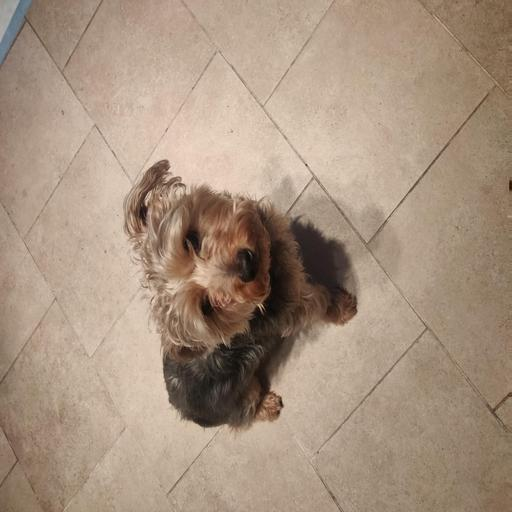dog: (89, 161, 362, 434)
